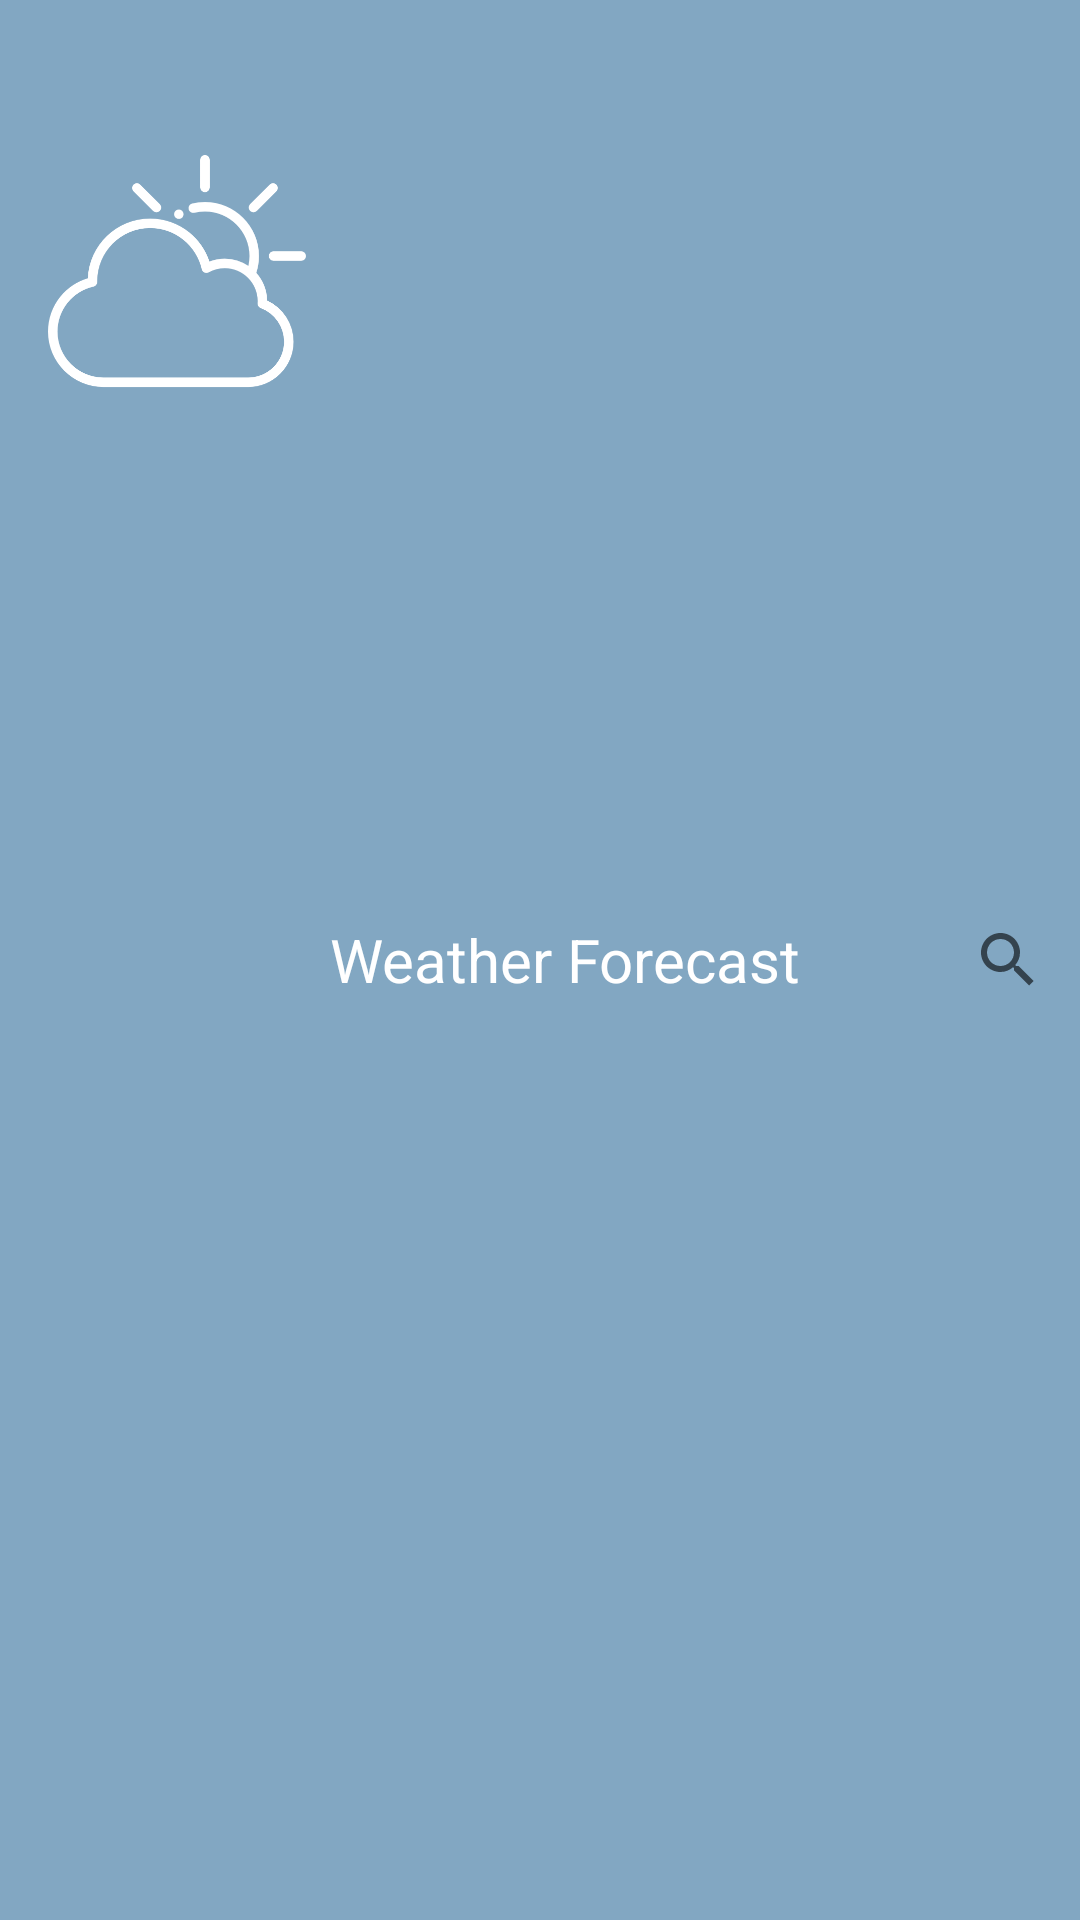

Icon click points for this 1080w x 1920h phone screenshot, format point (x, y):
cloudy: point (177, 271)
